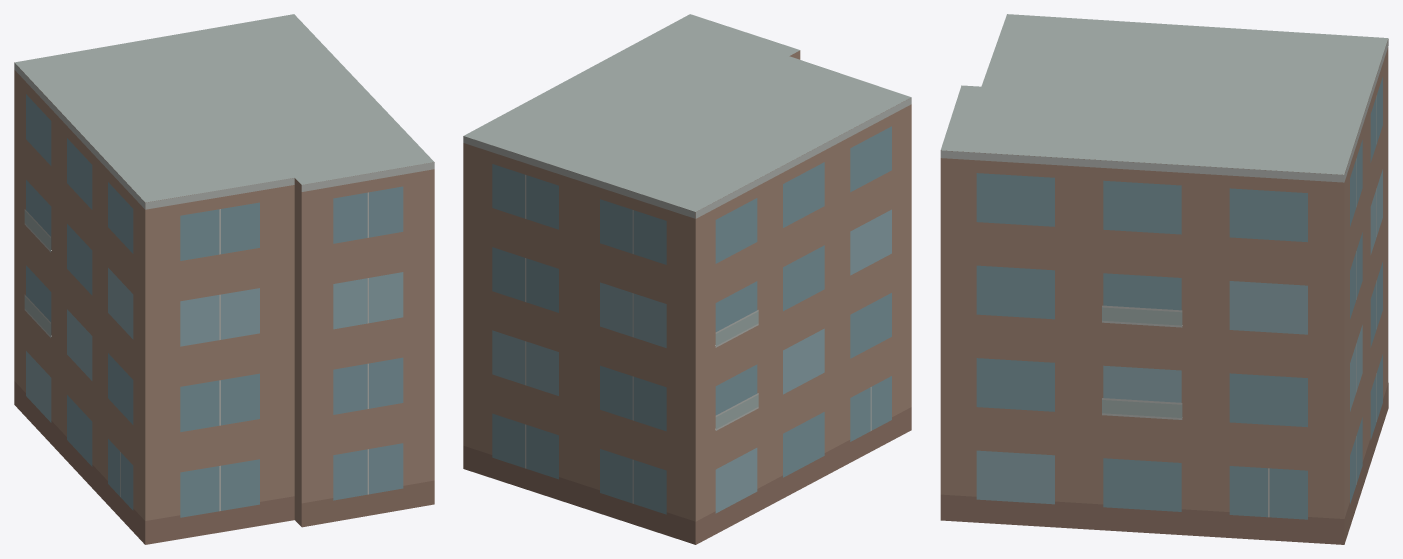
The model's file is survey-upis-32729354.glb.
The picture shows the model from 3 angles, left to right: view 1: azimuth 30°, elevation 25°; view 2: azimuth 150°, elevation 25°; view 3: azimuth 270°, elevation 25°; orthographic projection. The views are drawn at different scales.
Parts seen in each view (by area): view 1: survey-upis-32729354.tmp; view 2: survey-upis-32729354.tmp; view 3: survey-upis-32729354.tmp.
Part boxes in pixels (x1,y1,x2,y2): survey-upis-32729354.tmp: (14,14,434,544); survey-upis-32729354.tmp: (463,14,911,544); survey-upis-32729354.tmp: (940,14,1388,544).
Size of the model in its own units: 10.92 by 11.7 by 12.85.
